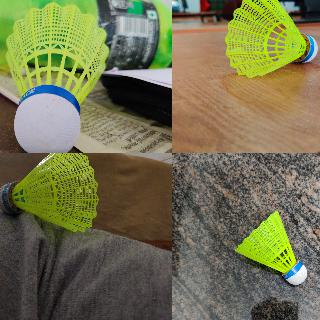shuttlecock: (4, 2, 110, 152), (0, 153, 99, 232), (224, 0, 318, 77), (234, 212, 306, 284)
